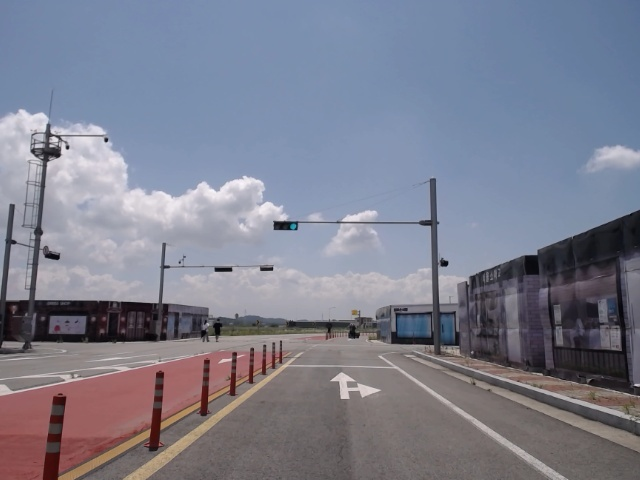green_3: (272, 221, 298, 230)
